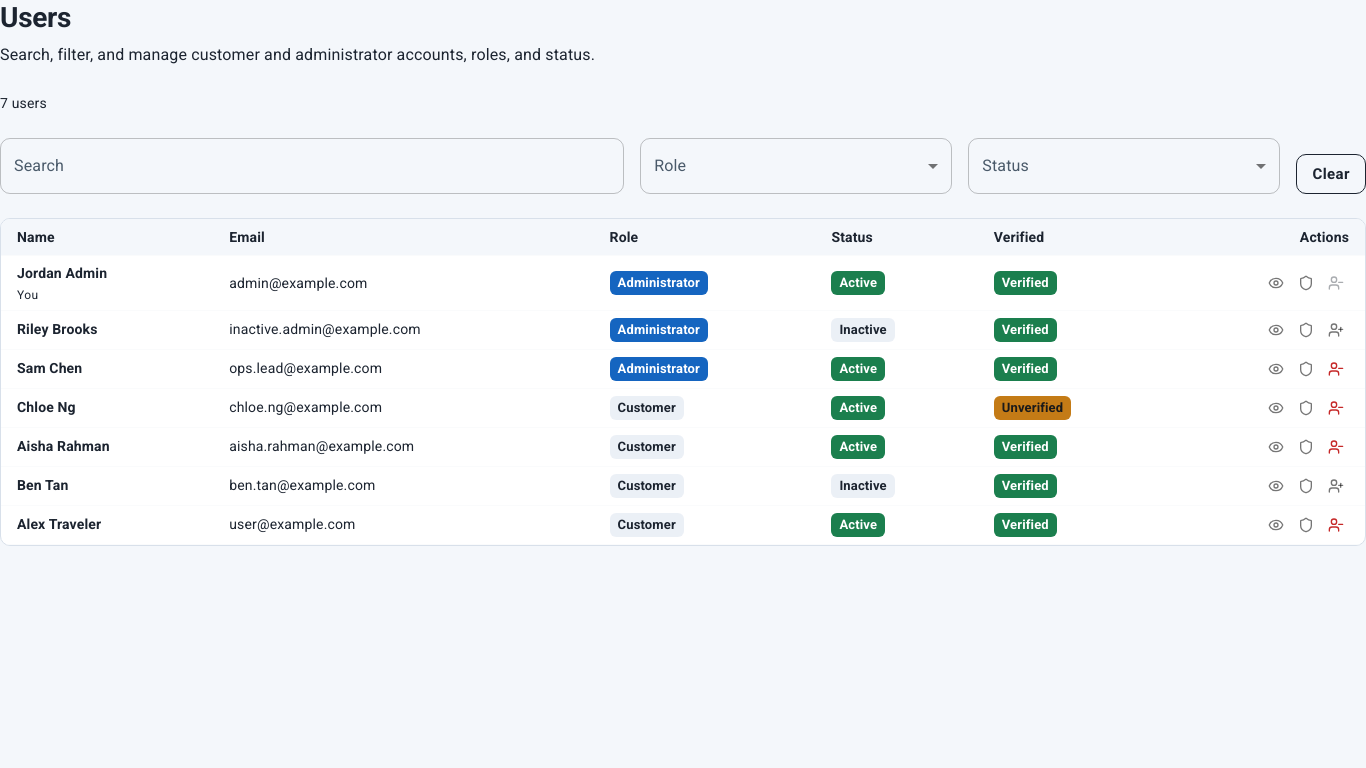
Test case: AdminUsersPage › opens user details from the table
Expected: the text "user@example.com" is shown, [213, 506, 594, 545]
Click the button named "View user@example.com" at (1276, 525), box [1263, 512, 1289, 538]
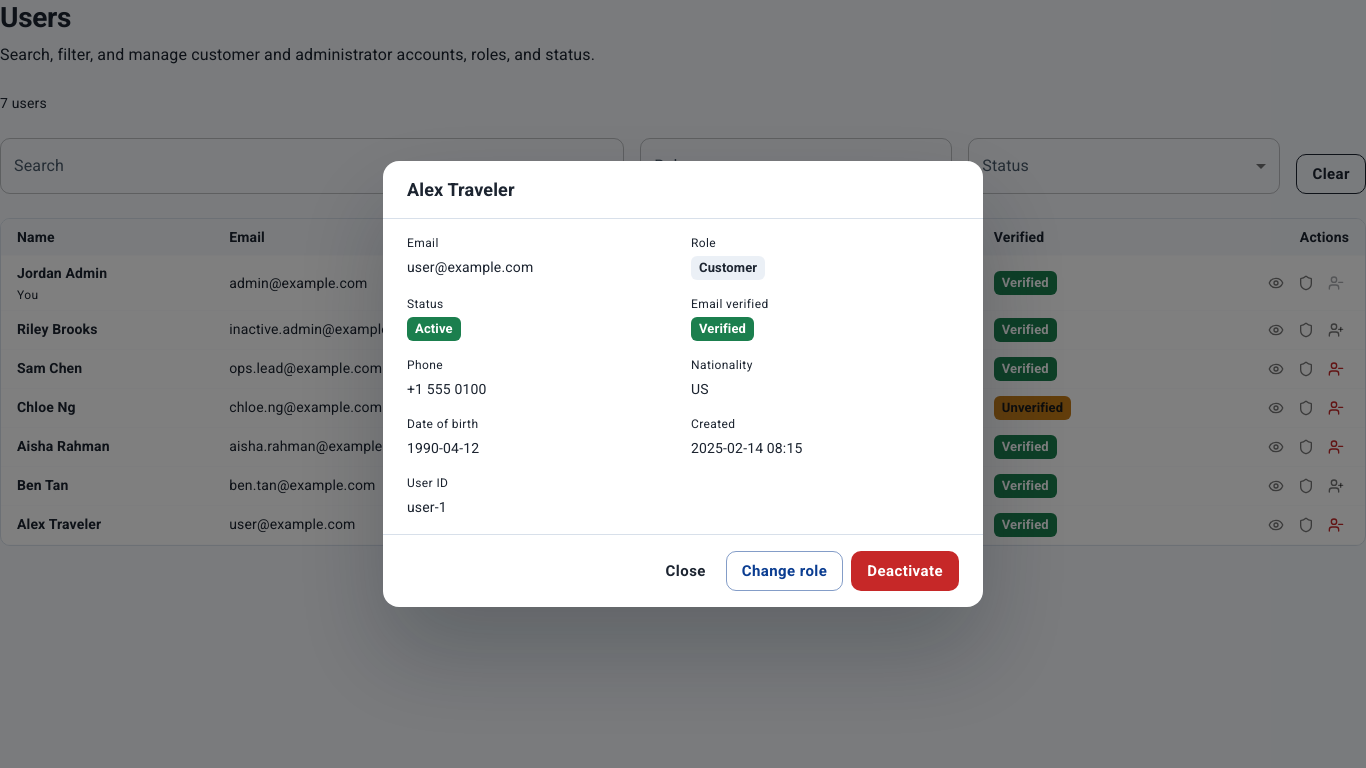
Now the heading "Alex Traveler" is shown, box [407, 178, 515, 200]
Now the text "user@example.com" is shown, box [407, 260, 533, 276]
